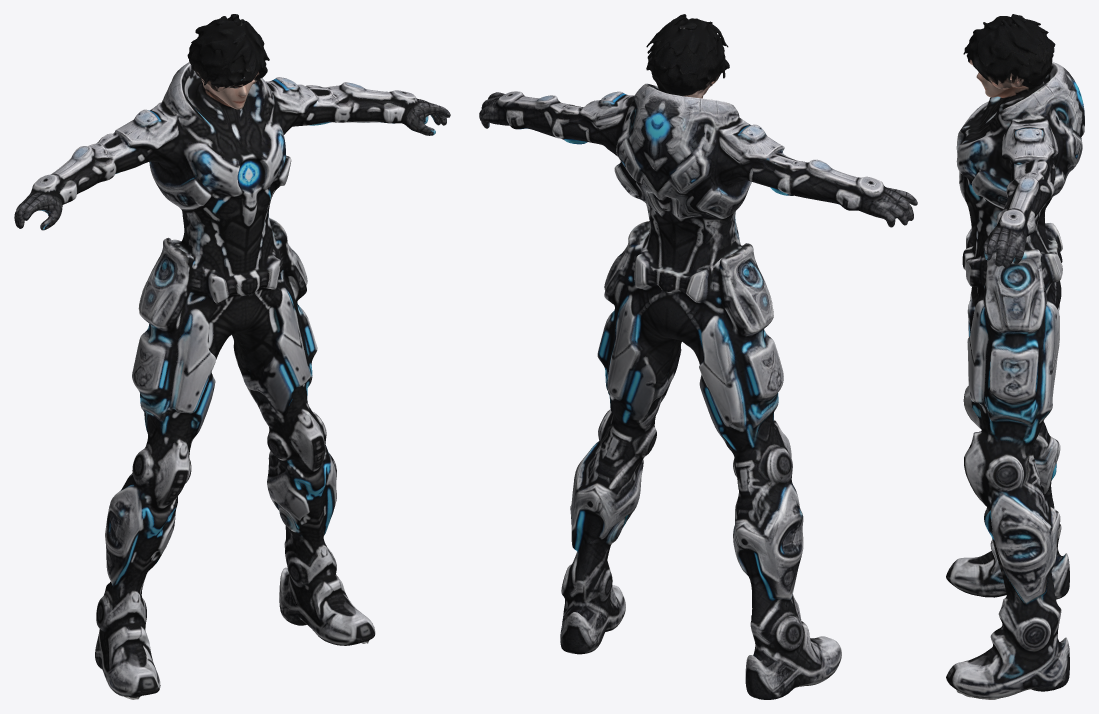
The model's file is Kael_ Variações de Armadura Sci-Fi - NIVEL 4  3D.glb.
The picture shows the model from 3 angles, left to right: view 1: azimuth 30°, elevation 25°; view 2: azimuth 150°, elevation 25°; view 3: azimuth 270°, elevation 25°; orthographic projection.
Size of the model in its own units: 1.33 by 1.9 by 0.3784.
Materials: 1 (1 with a texture image).
